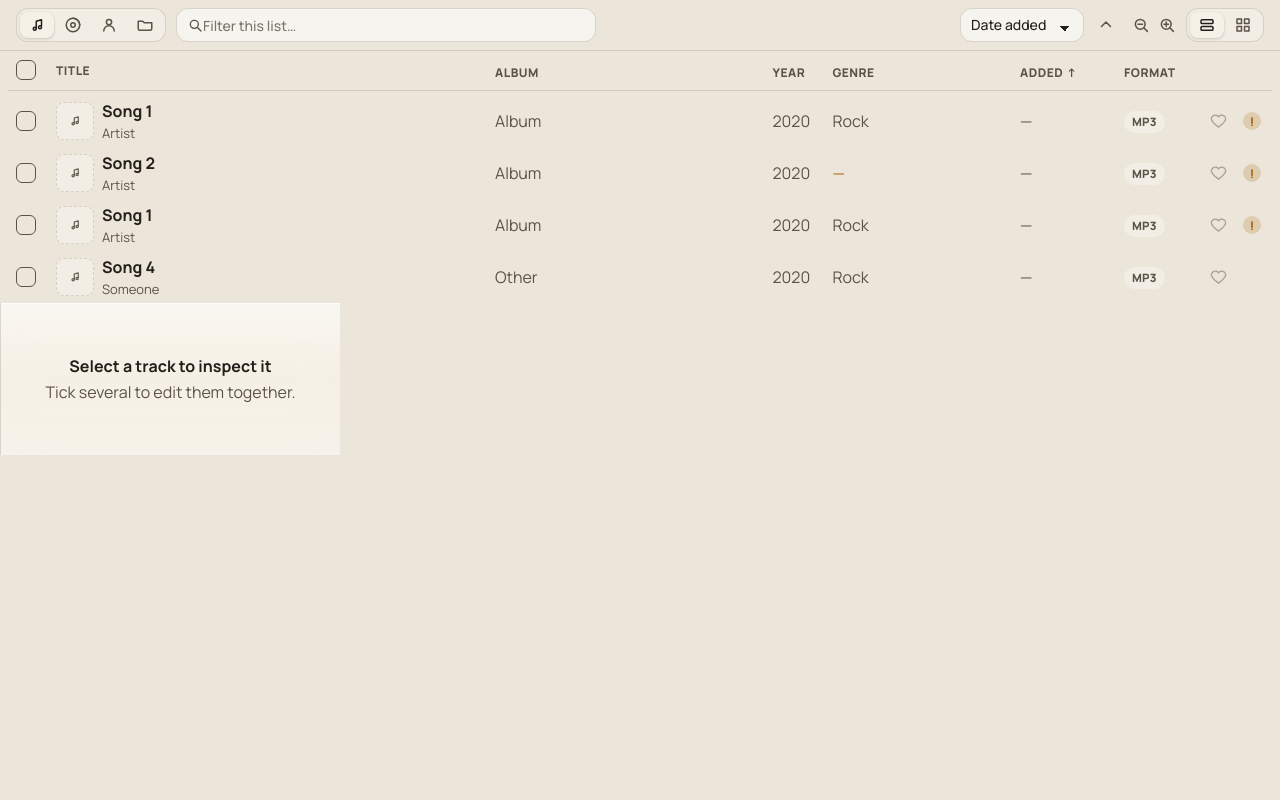
LibraryInspector › keeps going and reports when a file cannot be saved
This screenshot has width=1280, height=800.
Click the 1st row "Song 1 Artist Album 2020 Rock — MP3 !".
click(127, 111)  # box left=8, top=95, right=1272, bottom=147
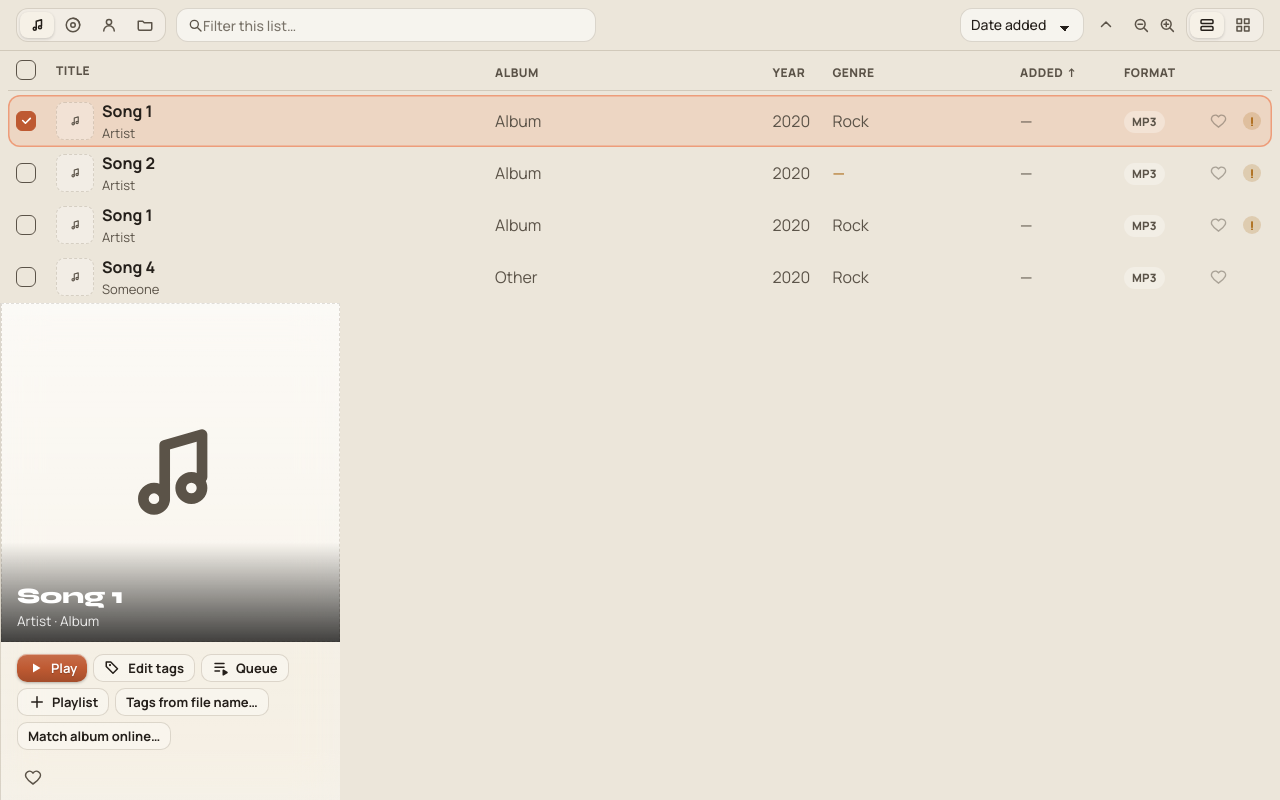
Click the row "Song 2 Artist Album 2020 — — MP3 !".
click(128, 163)  # box left=8, top=147, right=1272, bottom=199
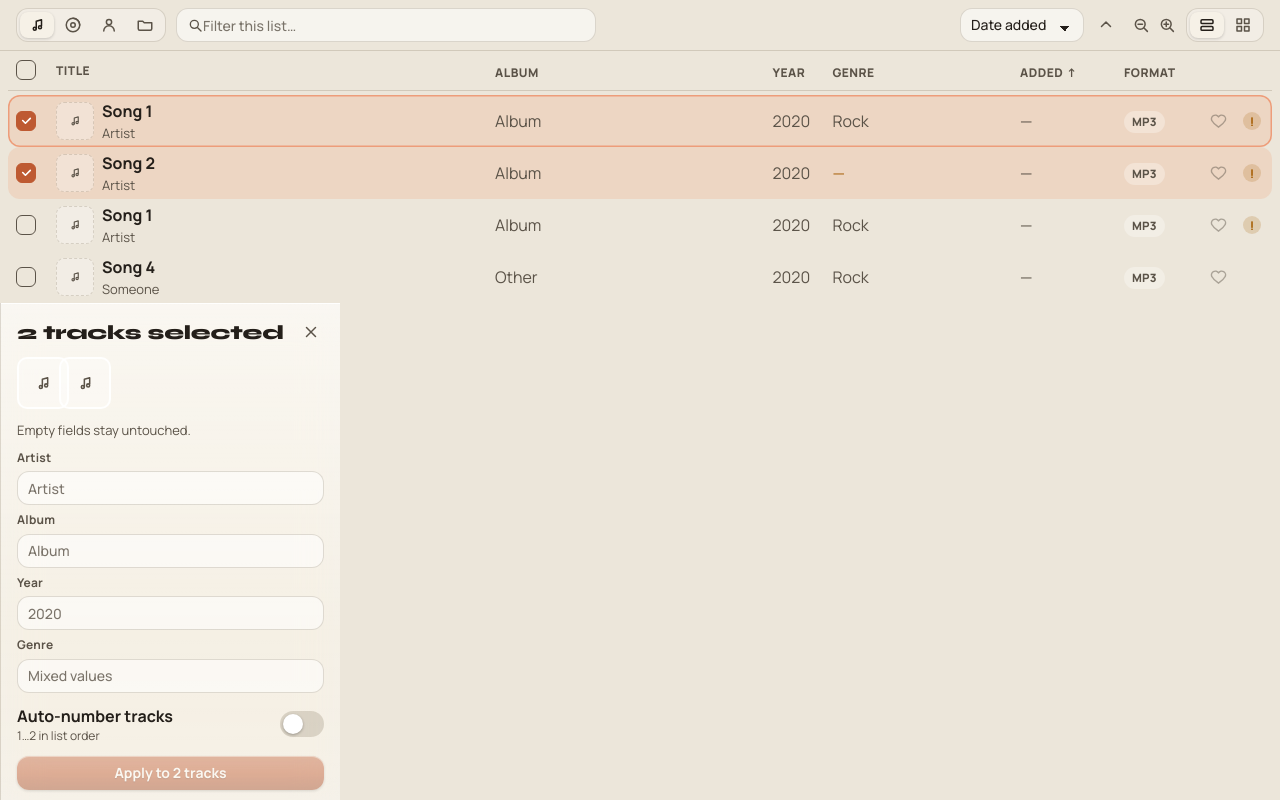
Type "New album" into the field labelled "Album".
click(170, 551); type("New album")  # box left=17, top=534, right=324, bottom=568
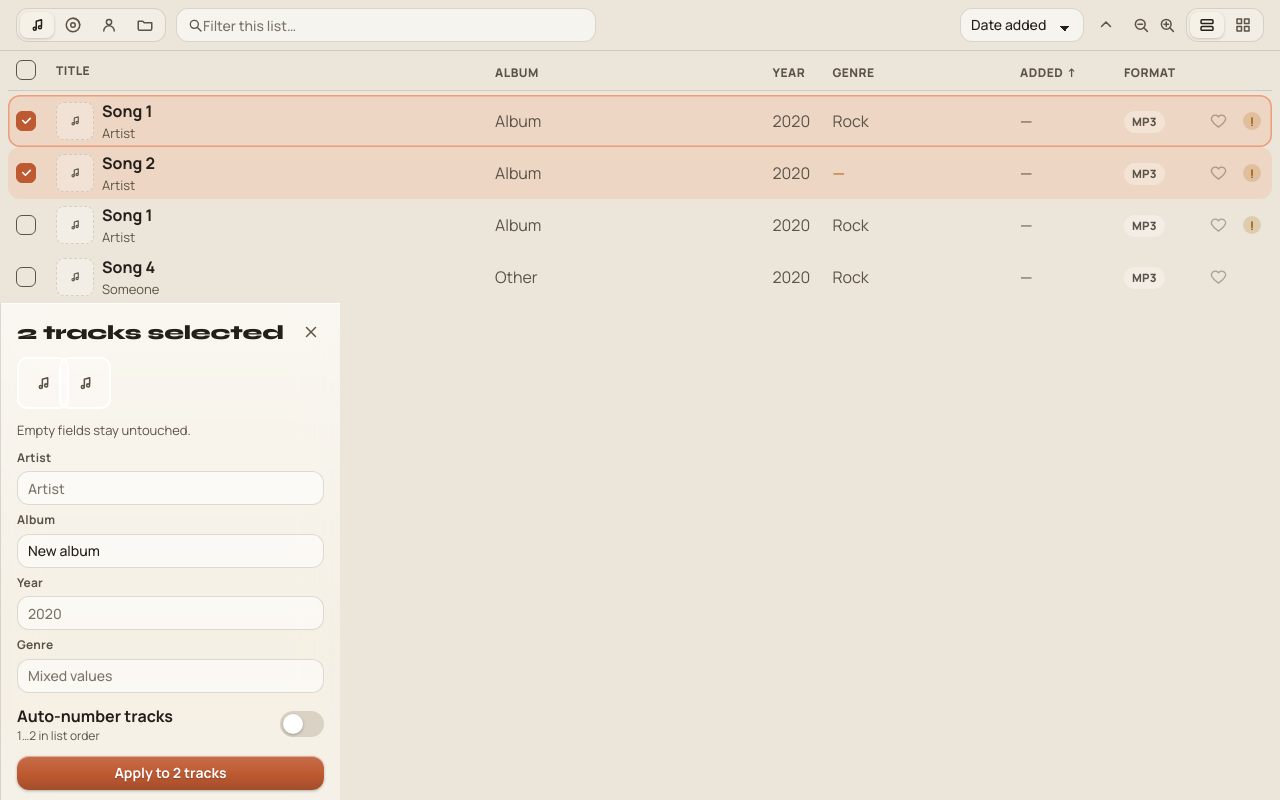
Click the button "Apply to 2 tracks".
click(170, 773)  # box left=17, top=756, right=324, bottom=790
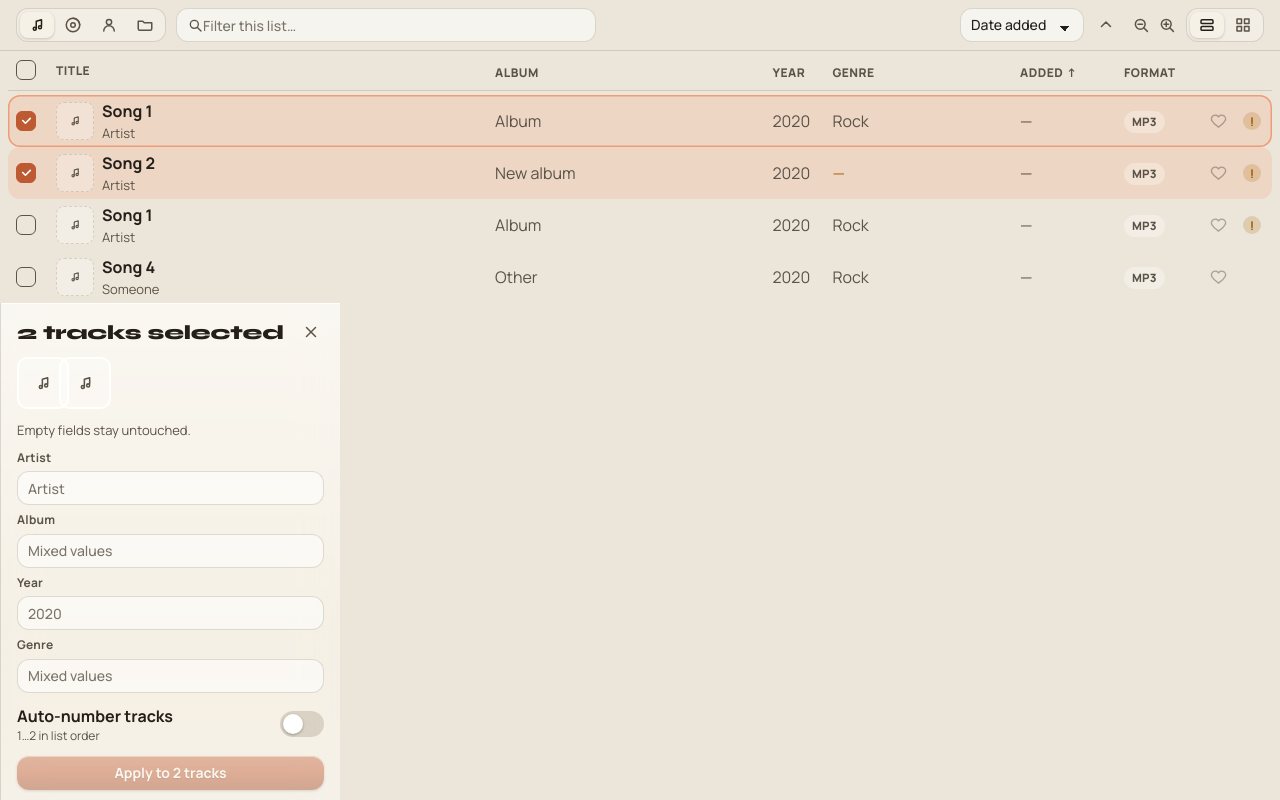
Check: the cell "New album" is shown, box left=495, top=162, right=576, bottom=184
